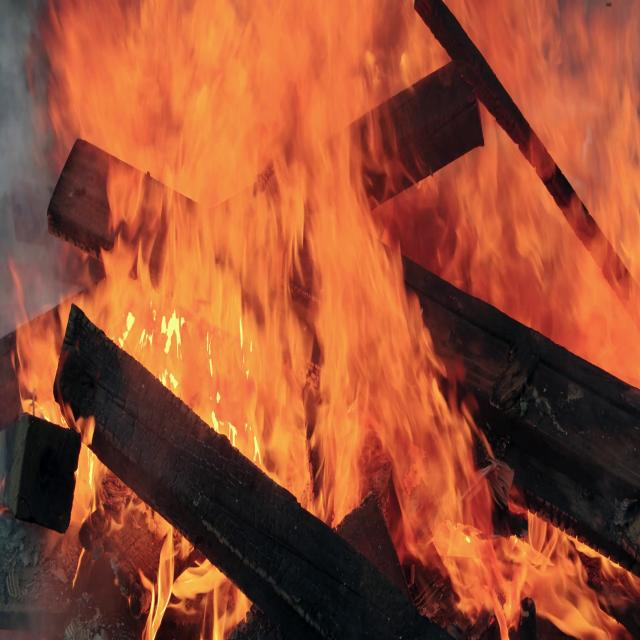Fire: (14, 0, 640, 640)
